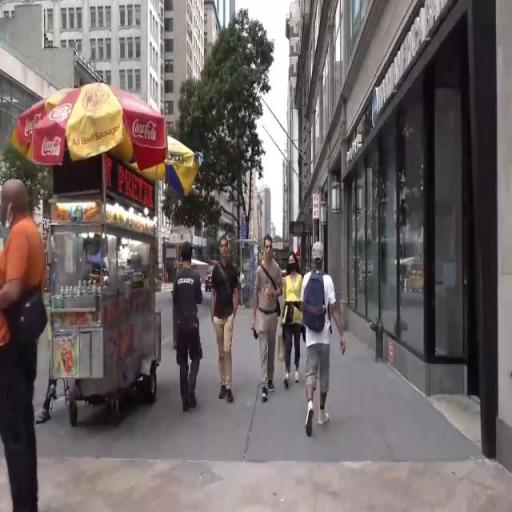person: (1, 171, 63, 512), (303, 234, 343, 454), (170, 240, 206, 415), (211, 231, 245, 414), (252, 231, 284, 396), (283, 253, 308, 388)
